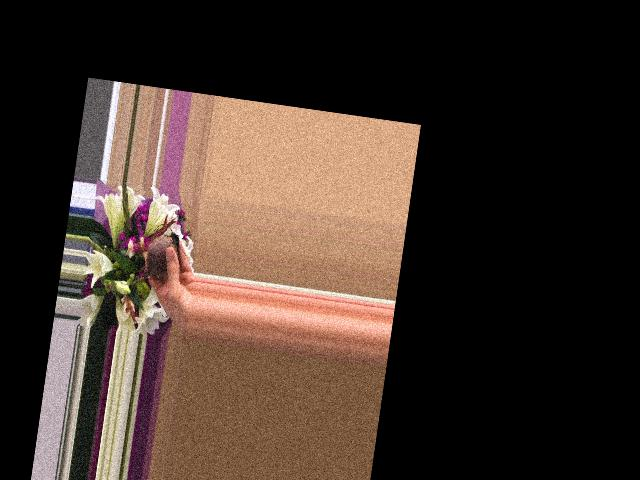beet: (120, 218, 182, 291)
